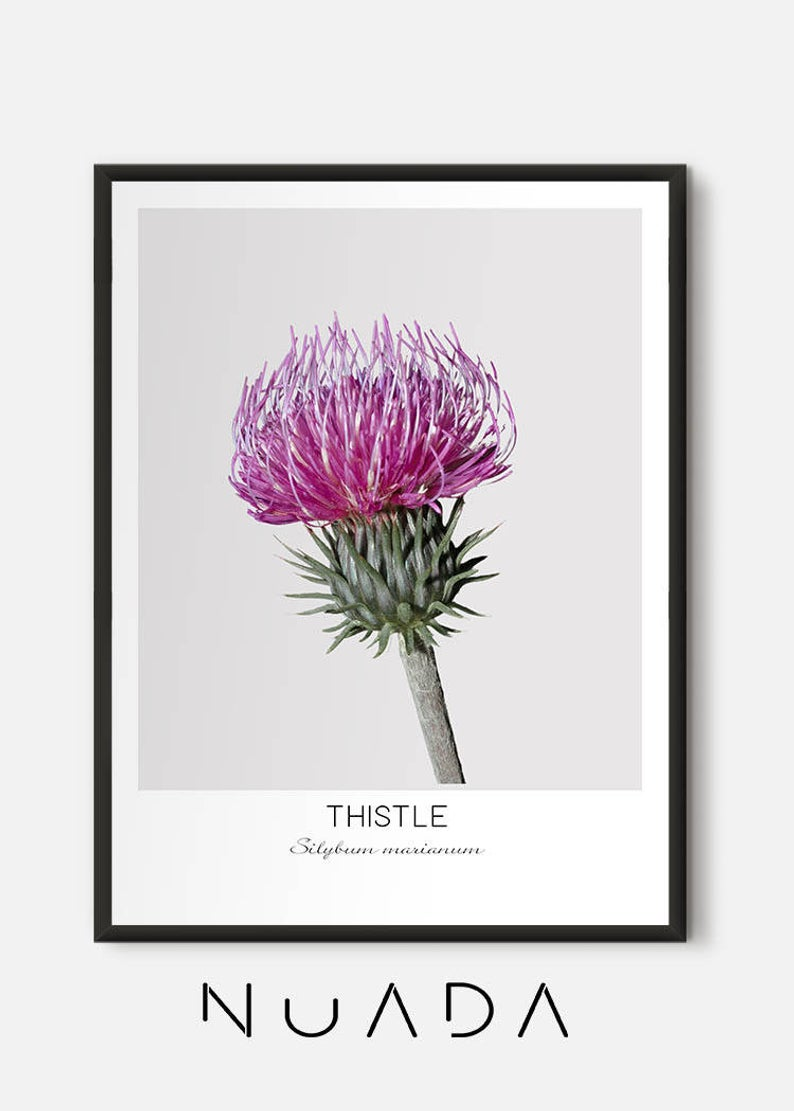thistle: (210, 335, 518, 649)
